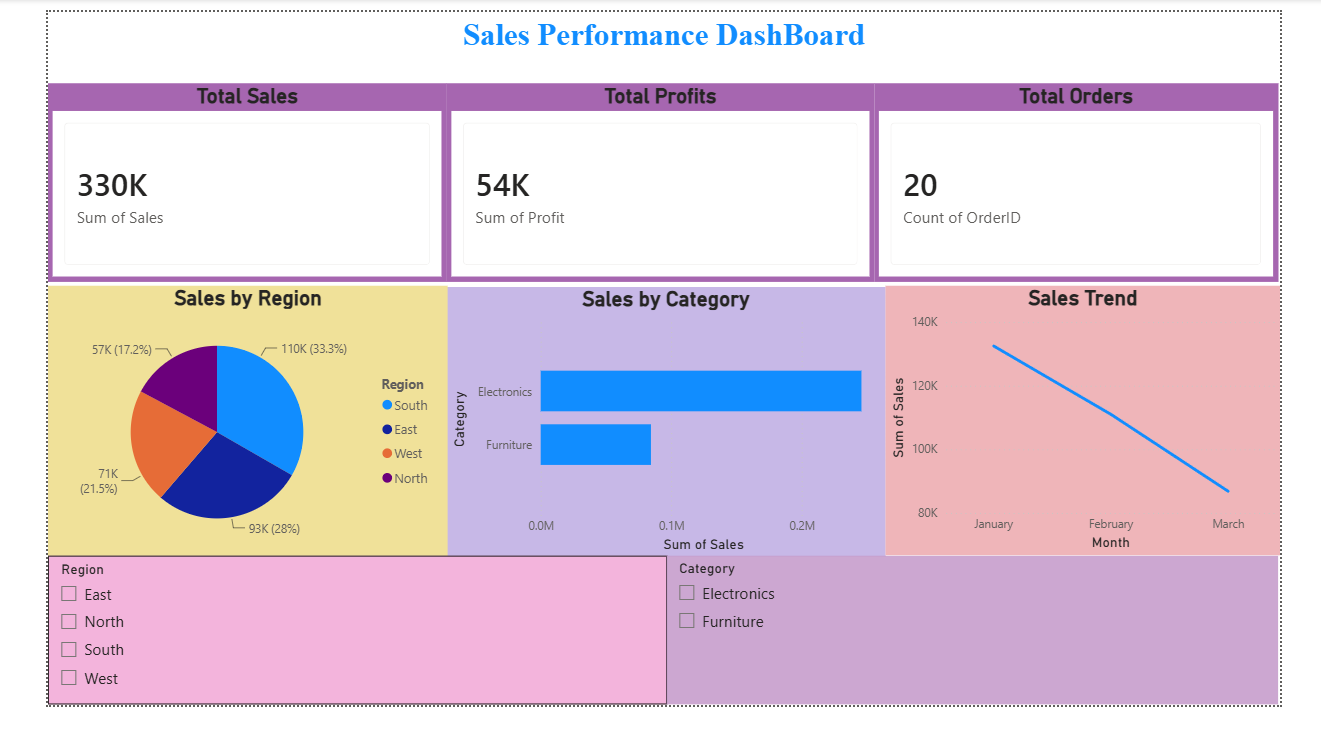

Layout of this report page (visuals, bound fields, positions):
{"tool":"powerbi","page":{"name":"Page 1","canvas":[1280,720],"ordinal":0},"visuals":[{"type":"cardVisual","title":"Total Sales","fields":{"Data":["Sum(SalesData.Sales)"]},"box":[9.8,73.8,404.9,206.6],"z":0},{"type":"cardVisual","title":"Total Profits","fields":{"Data":["Sum(SalesData.Profit)"]},"box":[414.8,73.8,444.3,206.6],"z":1000},{"type":"cardVisual","title":"Total Orders","fields":{"Data":["CountNonNull(SalesData.OrderID)"]},"box":[859,73.8,419.7,206.6],"z":2000},{"type":"clusteredBarChart","title":"Sales by Category","fields":{"Category":["SalesData.Category"],"Y":["Sum(SalesData.Sales)"]},"box":[414.8,285.2,455.7,280.3],"z":3000},{"type":"pieChart","title":"Sales by Region","fields":{"Category":["SalesData.Region"],"Y":["Sum(SalesData.Sales)"]},"box":[10,285,405,280],"z":4000},{"type":"lineChart","title":"Sales Trend","fields":{"Category":["SalesData.Date.Variation.Date Hierarchy.Month"],"Y":["Sum(SalesData.Sales)"]},"box":[870,285,410,280],"z":5000},{"type":"textbox","box":[0,0,1280,73.3],"z":6000},{"type":"slicer","fields":{"Values":["SalesData.Region"]},"box":[9.8,565.6,632.8,154.1],"z":7000},{"type":"slicer","fields":{"Values":["SalesData.Category"]},"box":[642.6,565.6,623,154.1],"z":8000}]}

Visuals, with their boxes in screenshot pixels (x1, y1, x2, y2), scaled from the page's 1280x720 canvas onto the 1321x740 screenshot:
"Total Sales" cardVisual: <box>10,76,428,288</box>
"Total Profits" cardVisual: <box>428,76,887,288</box>
"Total Orders" cardVisual: <box>887,76,1320,288</box>
"Sales by Category" clusteredBarChart: <box>428,293,898,581</box>
"Sales by Region" pieChart: <box>10,293,428,581</box>
"Sales Trend" lineChart: <box>898,293,1320,581</box>
textbox: <box>0,0,1320,75</box>
slicer - SalesData.Region: <box>10,581,663,739</box>
slicer - SalesData.Category: <box>663,581,1306,739</box>
